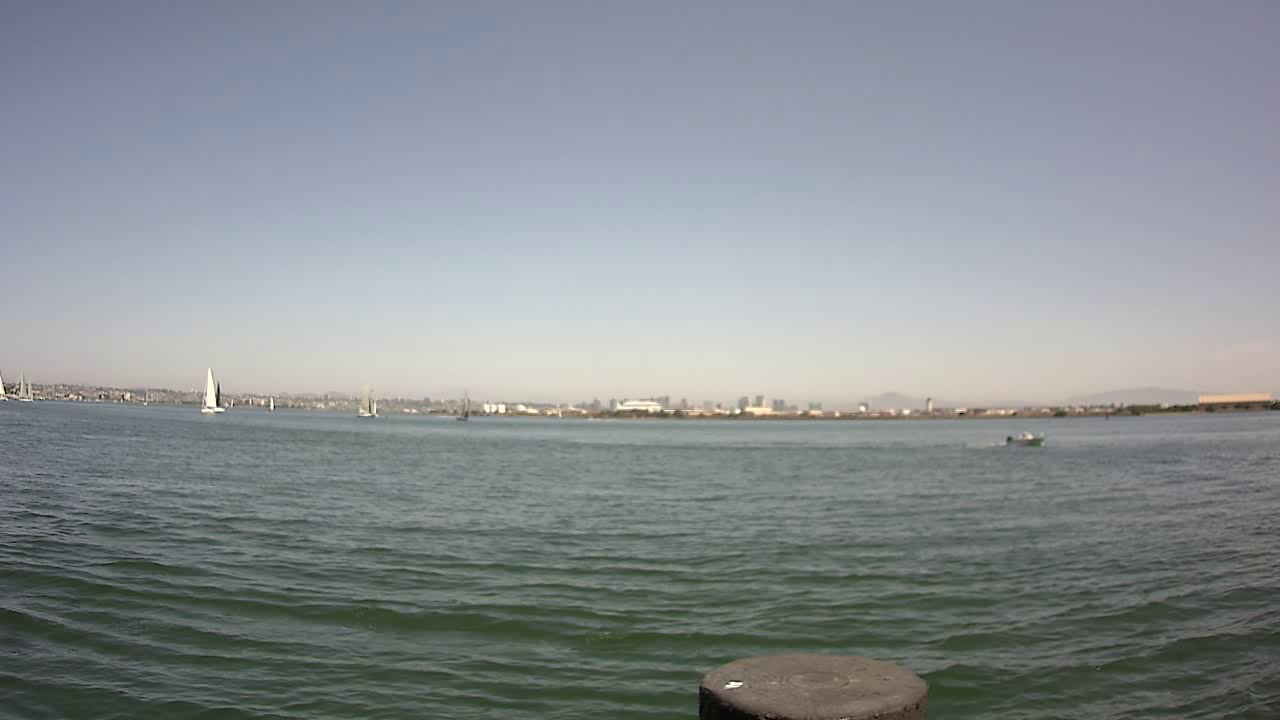target: (998, 425, 1052, 452)
